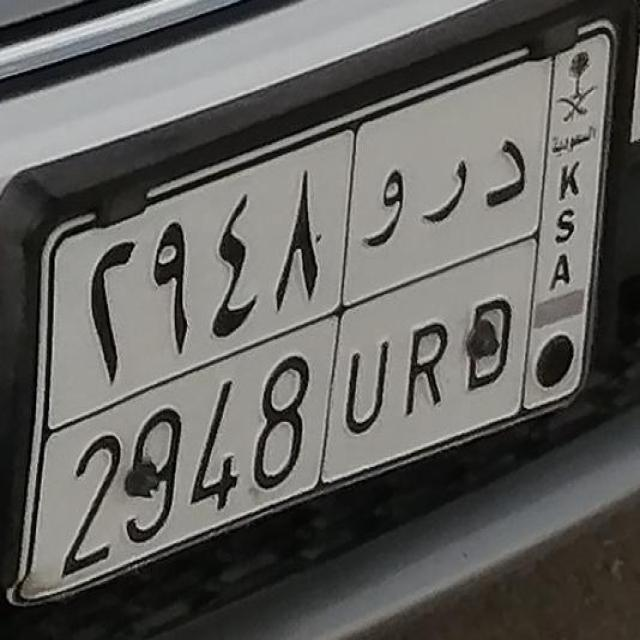license_plate: (9, 23, 621, 615)
